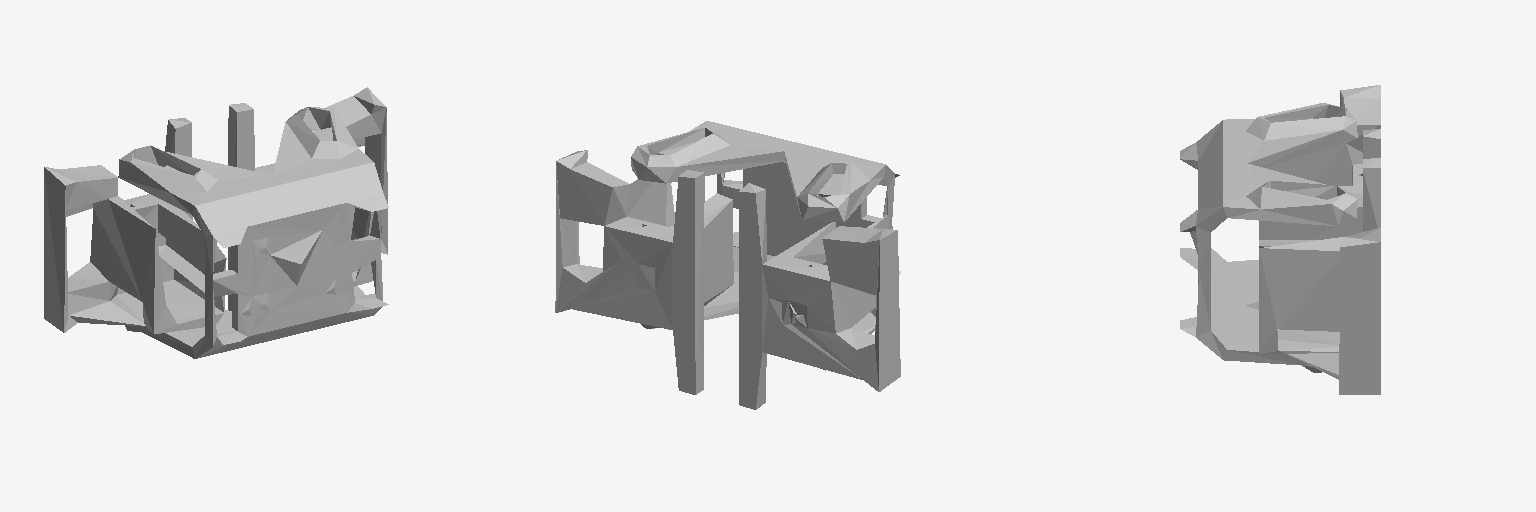
Rendered from part_3_simplified.obj.
3 renders of one model, left to right at view 1: azimuth 30°, elevation 25°; view 2: azimuth 150°, elevation 25°; view 3: azimuth 270°, elevation 25°, orthographic.
Visible parts, largest first — view 1: part_3_simplified; view 2: part_3_simplified; view 3: part_3_simplified.
Boxes of the visible parts, box(x1,y1,x2,y2) form: part_3_simplified: box(44, 87, 388, 358); part_3_simplified: box(555, 121, 900, 409); part_3_simplified: box(1180, 85, 1380, 394).
Size of the model in its own units: 0.1877 by 0.1203 by 0.1007.